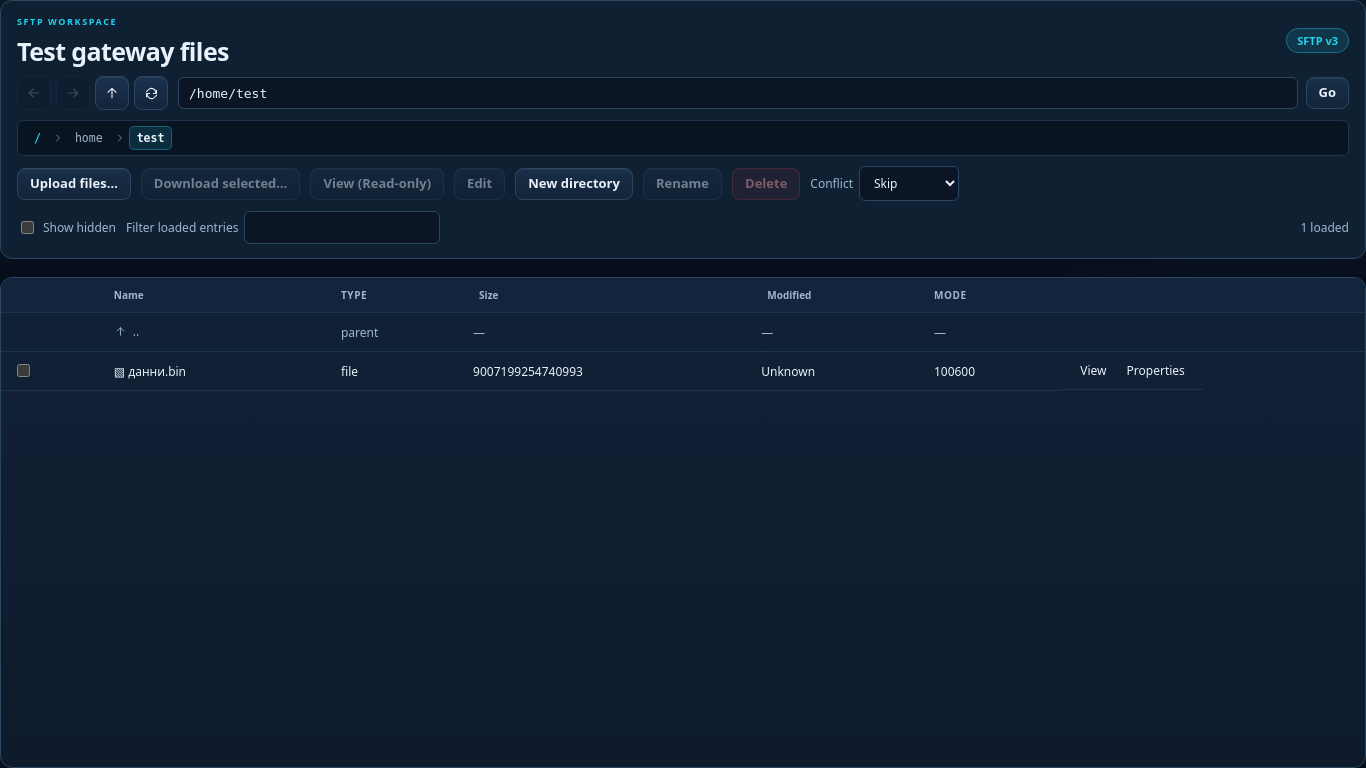
Test: Files workspace boundaries › shows the full final download target and discards a cancelled approval
Later steps or results of the test are not shown.
Expected: the field showing "/home/test" is shown, 178,77 -> 1298,109
Click the checkbox named "Select данни.bin" at point(24, 370), box 17,364 -> 30,377
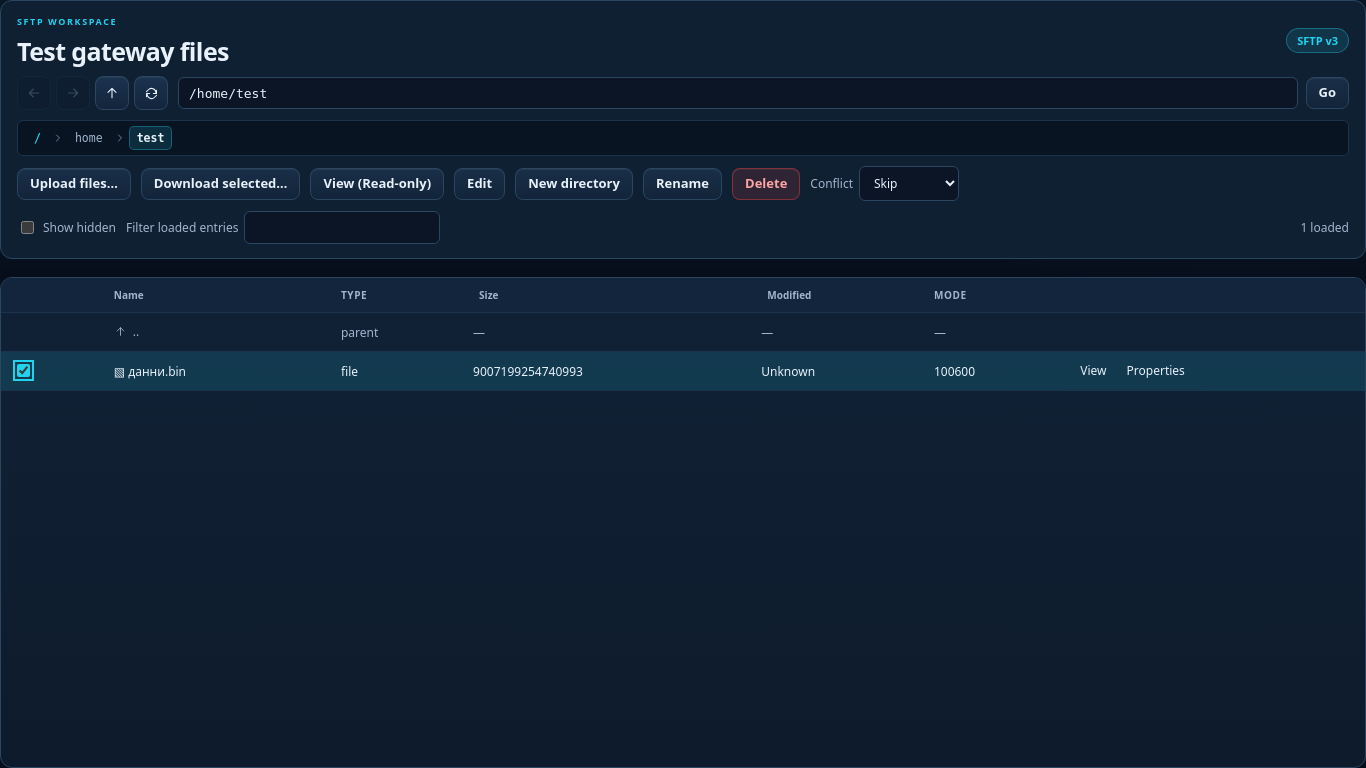
Select "Keep both" in the dropdown labelled "Conflict" at point(909, 184), box 859,166 -> 959,201
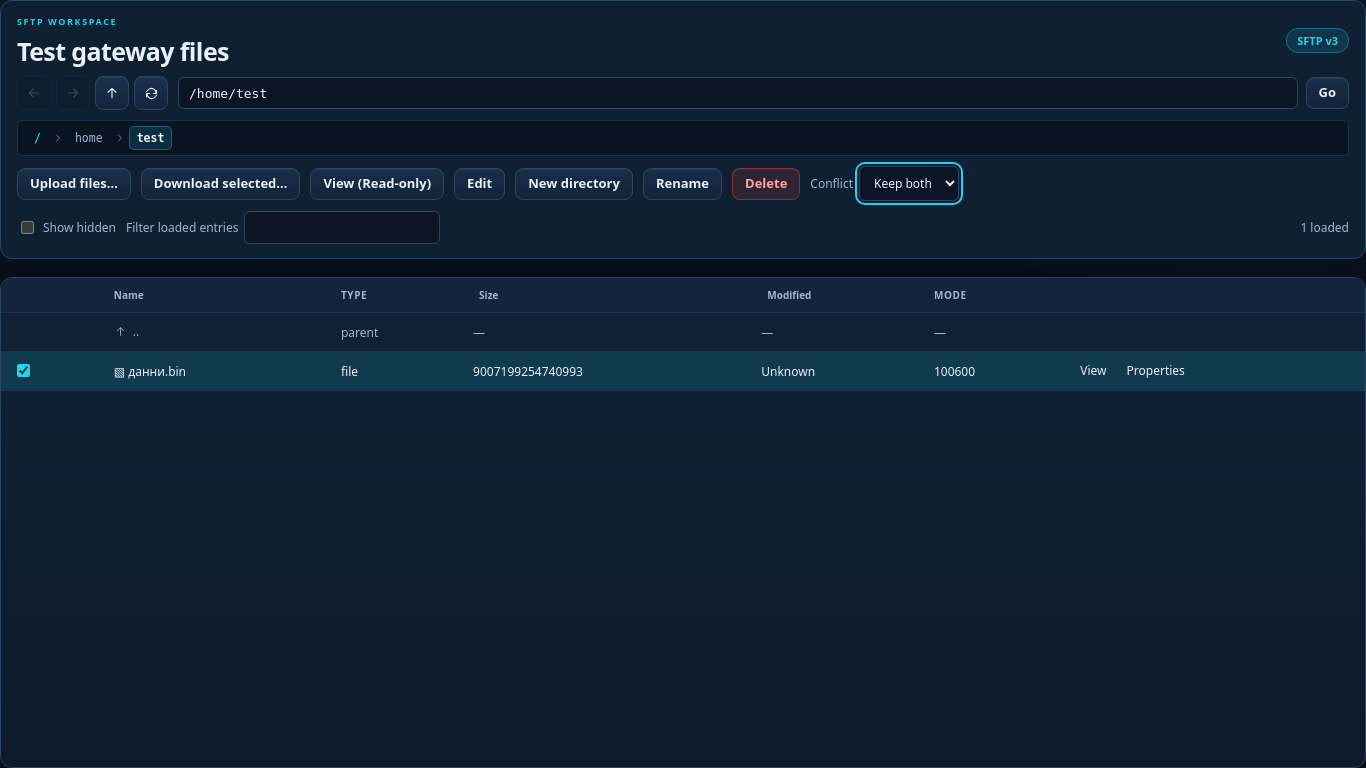
Click the button "Download selected…" at point(221, 184), box 141,168 -> 300,200
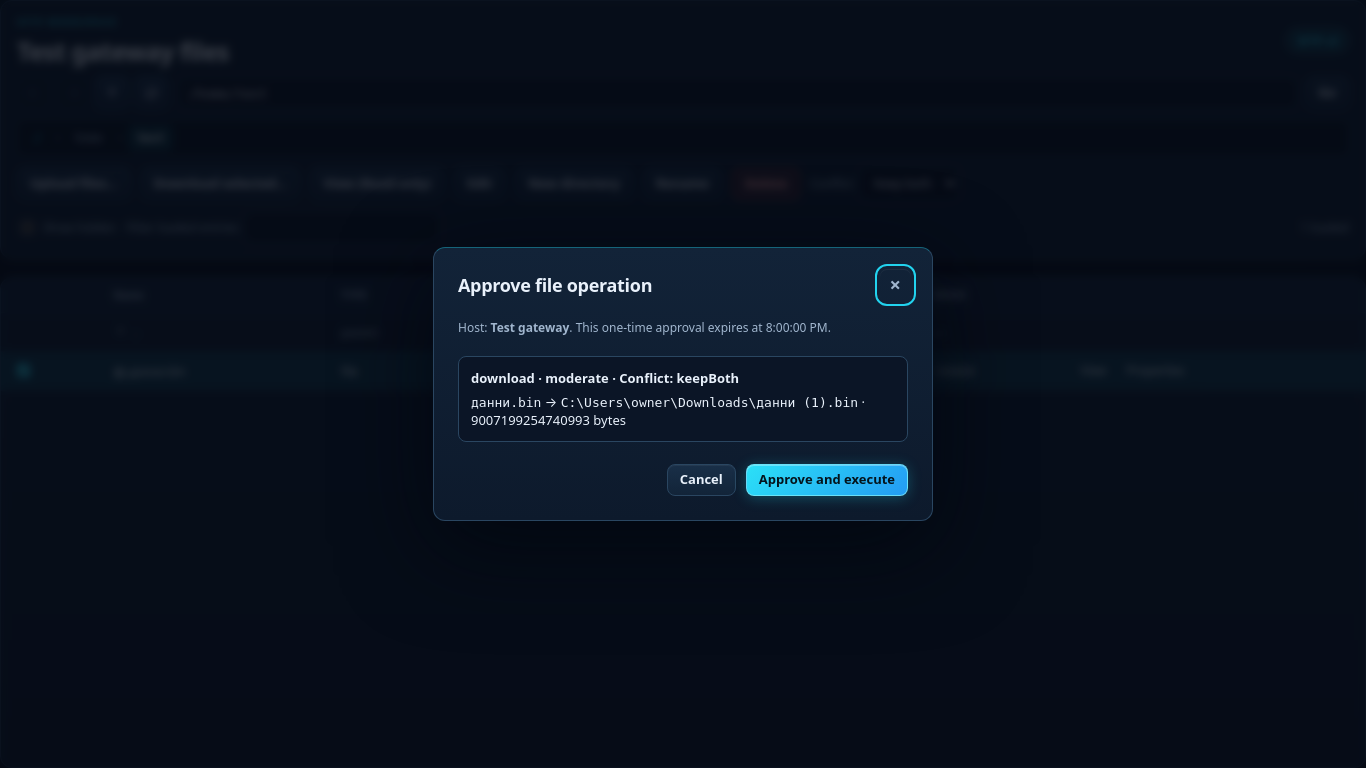
Now the text "C:\\Users\\owner\\Downloads\\данни (1).bin" is shown, box 561,395 -> 858,410
